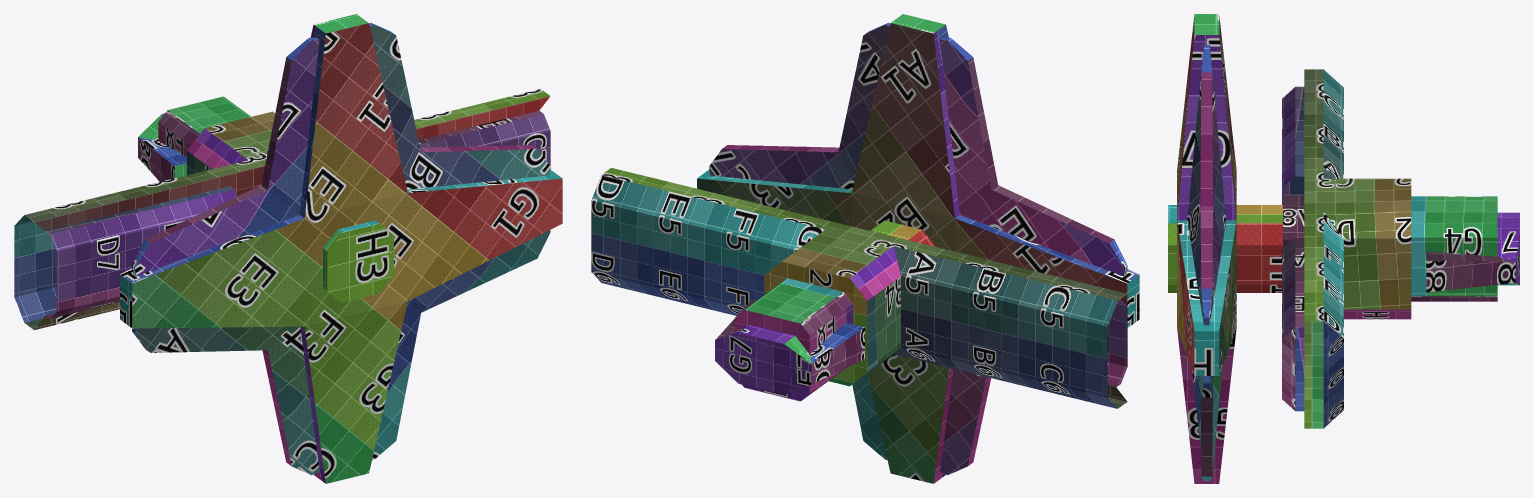
Rendered from basement_blades.glb.
3 views of the same model, side by side, from view 1: azimuth 30°, elevation 25°; view 2: azimuth 150°, elevation 25°; view 3: azimuth 270°, elevation 25° (orthographic).
Parts seen in each view (by area): view 1: Cube, Cube.001; view 2: Cube.001, Cube; view 3: Cube.001, Cube.
Part boxes in pixels (x1=…): Cube: x1=120, y1=14, x2=562, y2=483; Cube.001: x1=14, y1=89, x2=550, y2=330; Cube.001: x1=591, y1=167, x2=1127, y2=408; Cube: x1=697, y1=14, x2=1139, y2=483; Cube.001: x1=1282, y1=69, x2=1519, y2=428; Cube: x1=1168, y1=14, x2=1282, y2=483.
Bounding box in the file's own units: 6 × 5 × 3.55.
Materials: 1 (1 with a texture image).
